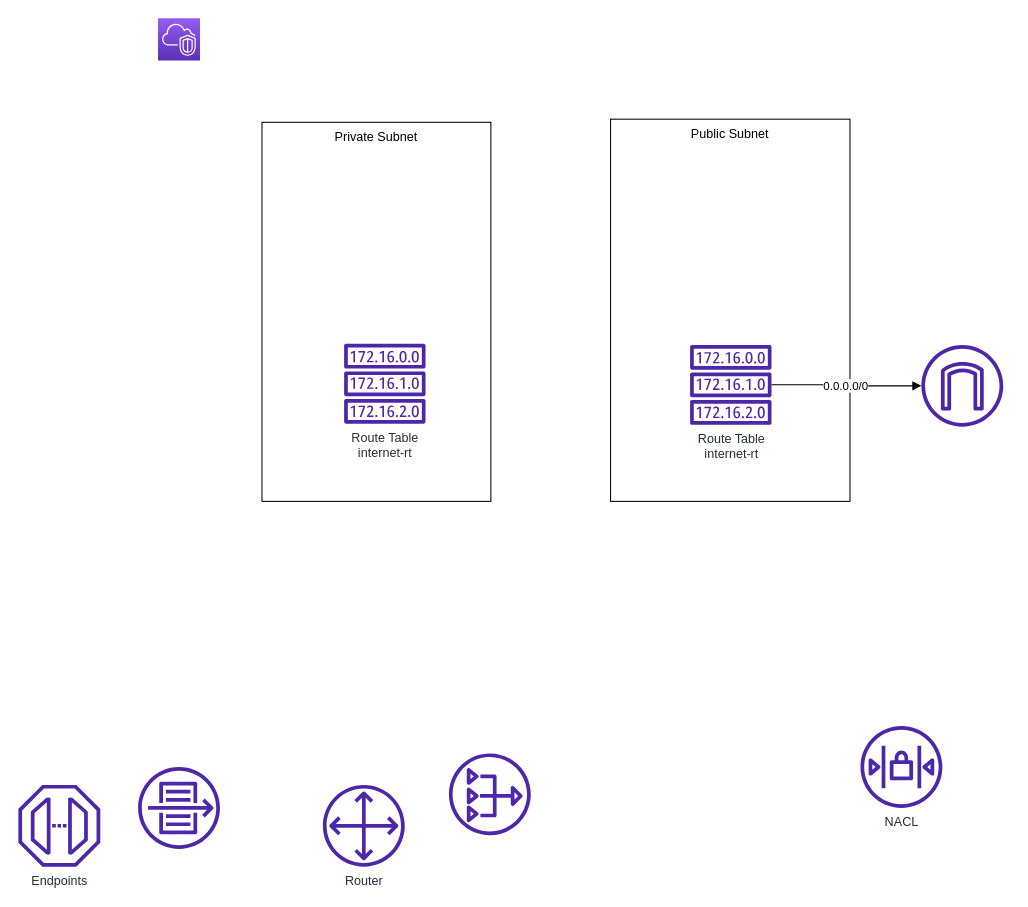
Image size: 1028x907. Some labels were removed from this diagram. Here are the shapes that lost their labels. From the top down, the box of each, then its label:
(921, 344, 1003, 426): Internet Gateway igw-bajor
(138, 766, 219, 848): Flow Logs
(448, 753, 530, 835): NAT Gateway
